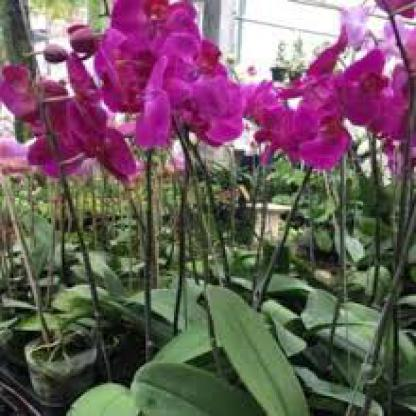ANGGREK: (11, 7, 412, 228)
